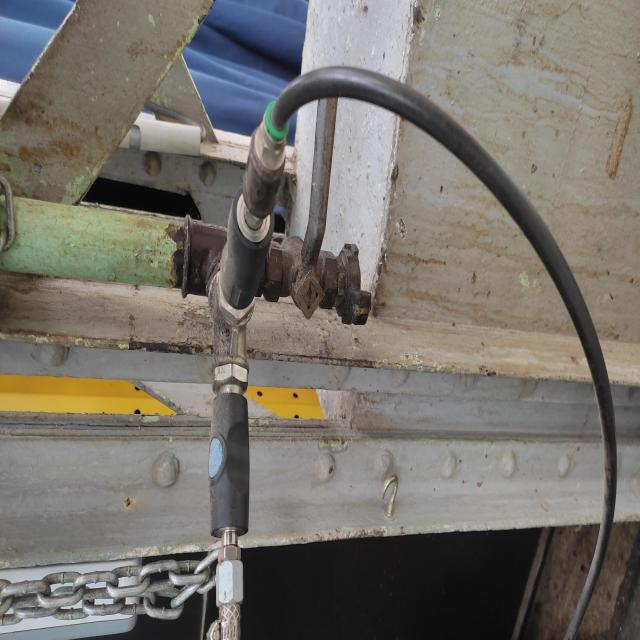closed_valve: (275, 74, 343, 328)
